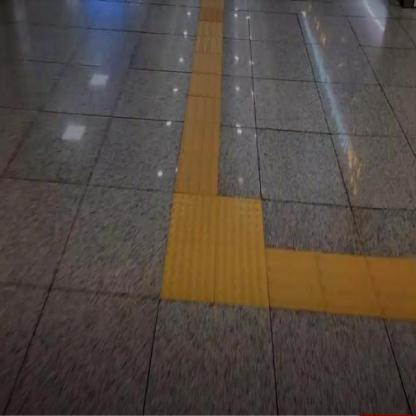podotacti: (143, 155, 305, 342), (271, 243, 416, 323), (172, 0, 228, 187)
